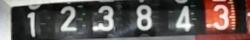digits: (95, 5, 117, 31), (174, 5, 194, 31), (59, 5, 77, 31), (135, 4, 152, 30), (212, 4, 229, 29), (26, 11, 38, 39)
